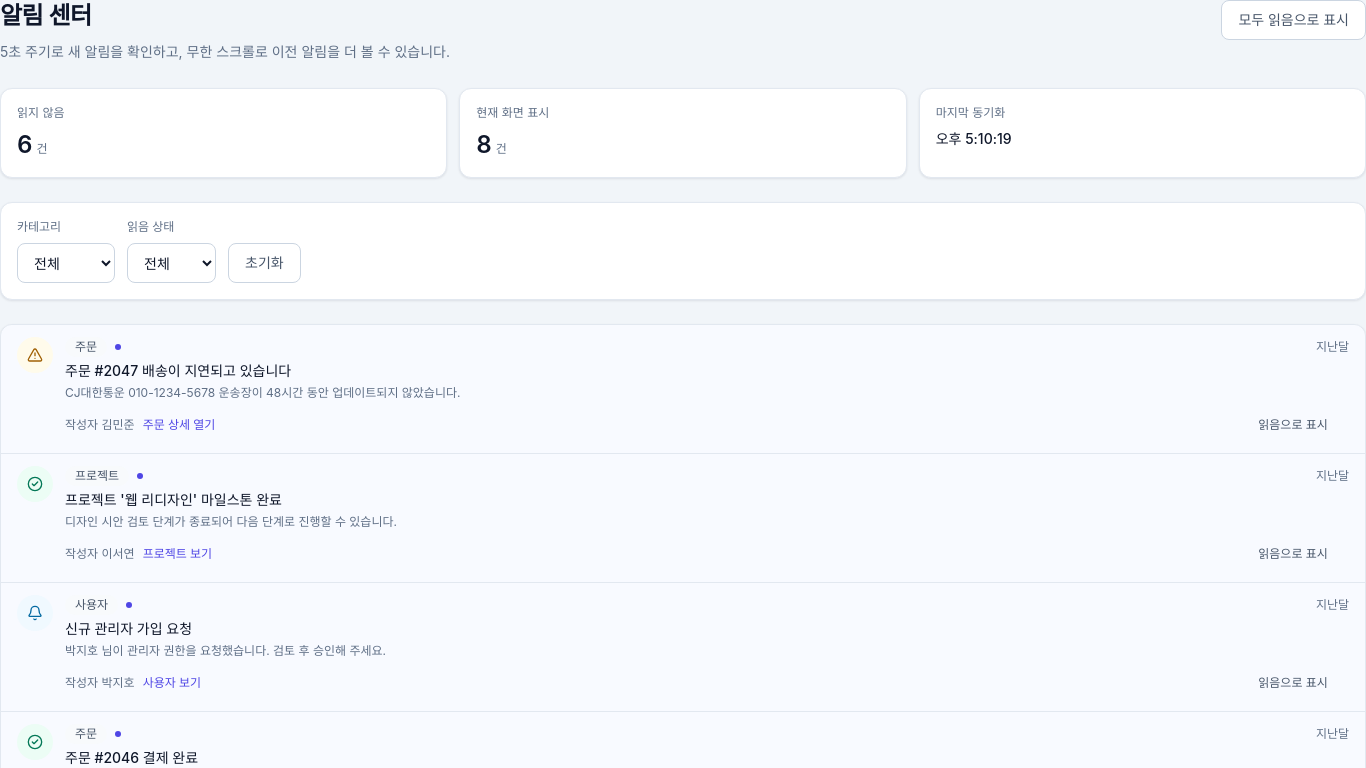
notifications page › 빈 결과일 때 안내 메시지를 보여준다
Expected: the heading "알림 센터" is shown, x1=0 y1=1 x2=91 y2=30
// 모두 읽음 처리 후 안 읽음 필터로 좁히면 결과가 비어 있어야 한다.
Click the button "모두 읽음으로 표시" at (1294, 20), box x1=1222 y1=0 x2=1365 y2=40
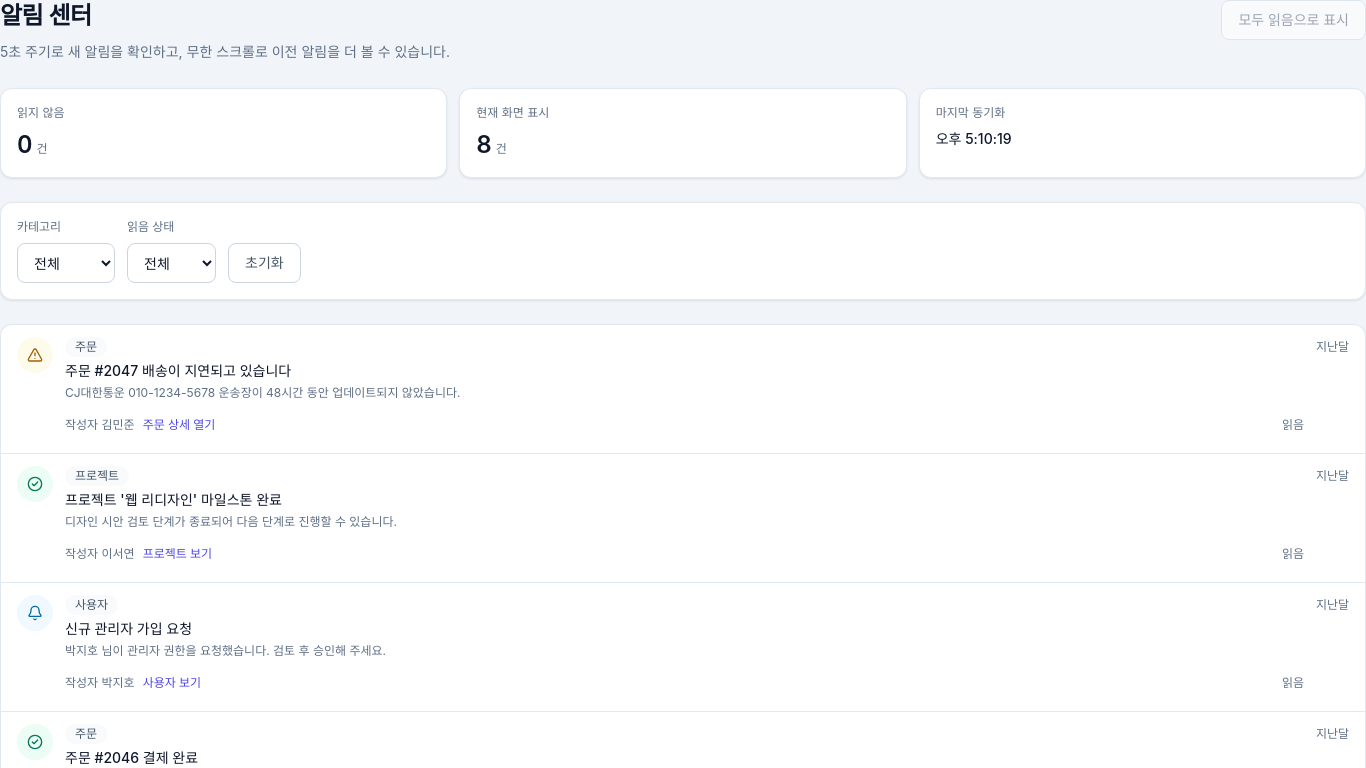
Select "안 읽음" in the dropdown named "알림 읽음 상태" at (172, 263), box x1=127 y1=243 x2=216 y2=283
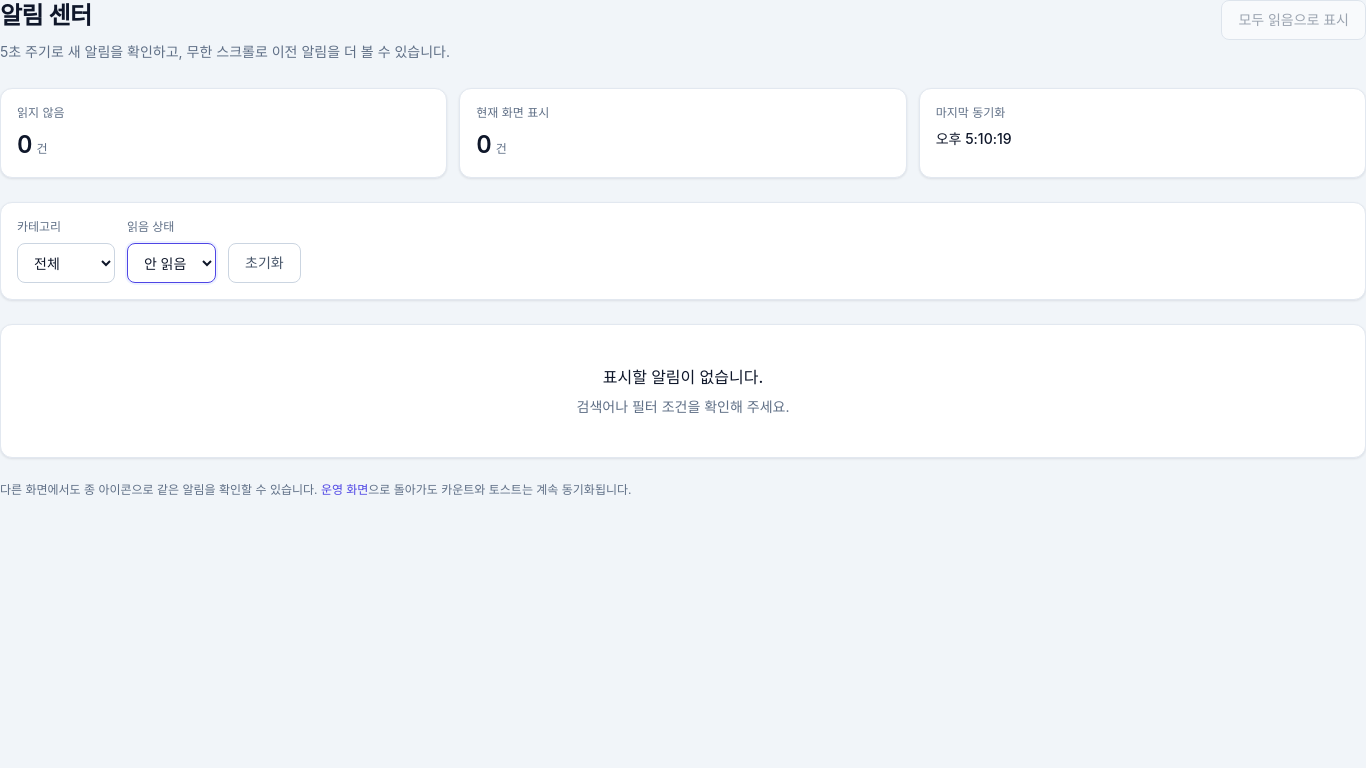
Expected: the text "표시할 알림이 없습니다." is shown, x1=603 y1=367 x2=763 y2=387
